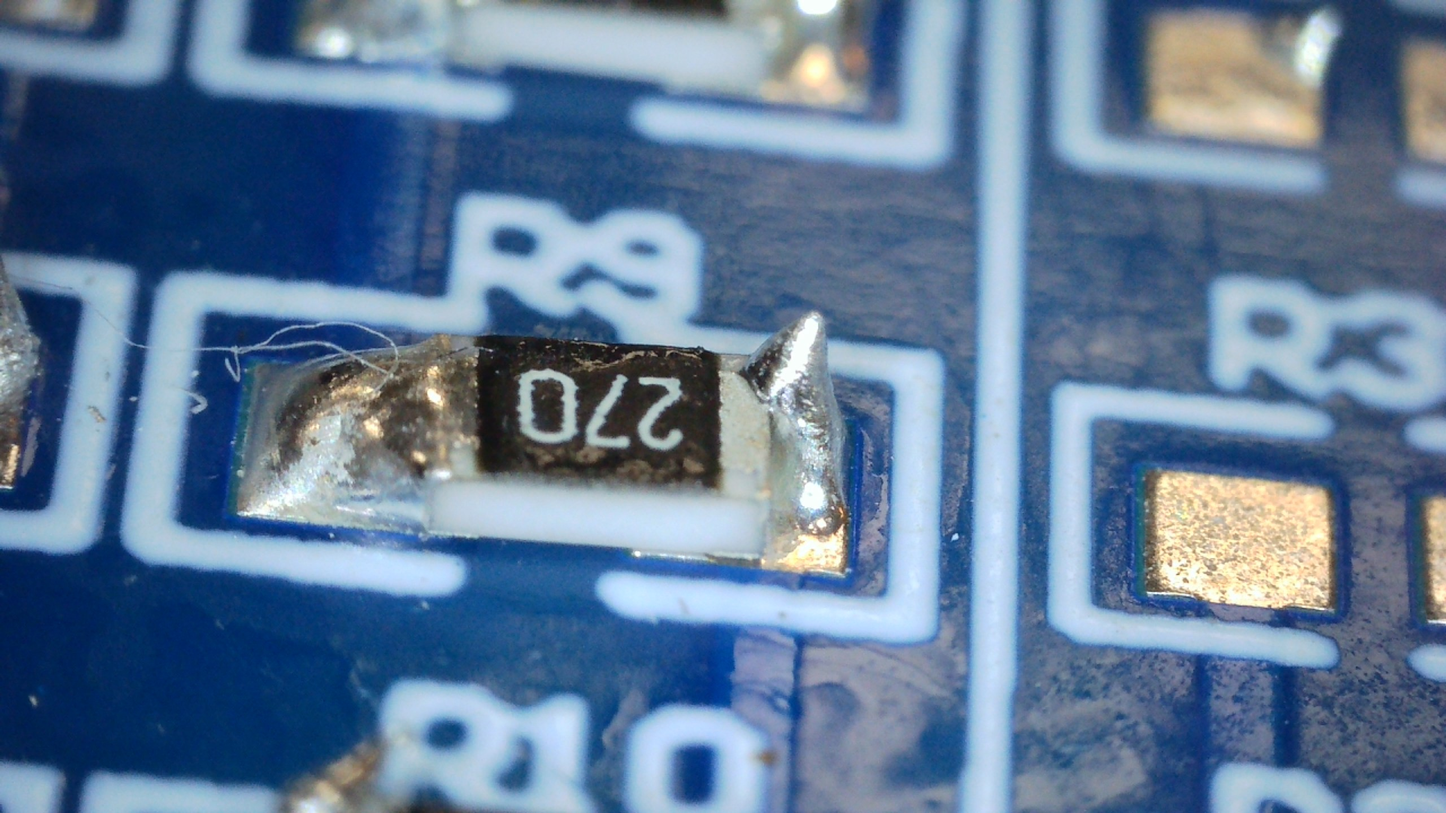NG: (241, 332, 474, 530), (740, 314, 844, 561)
